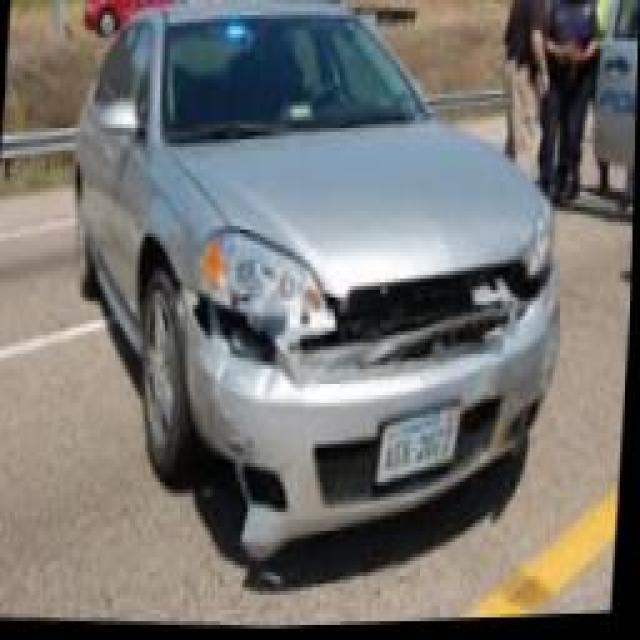Bonnet: (302, 211, 557, 356)
Bumper: (176, 268, 562, 560)
